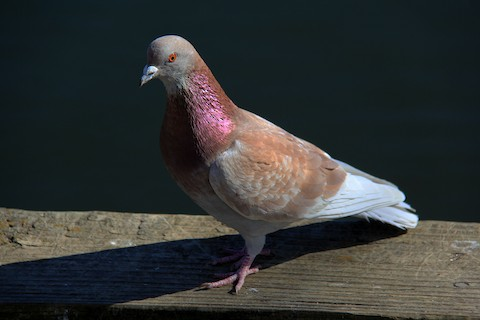pigeon: (133, 21, 423, 299)
